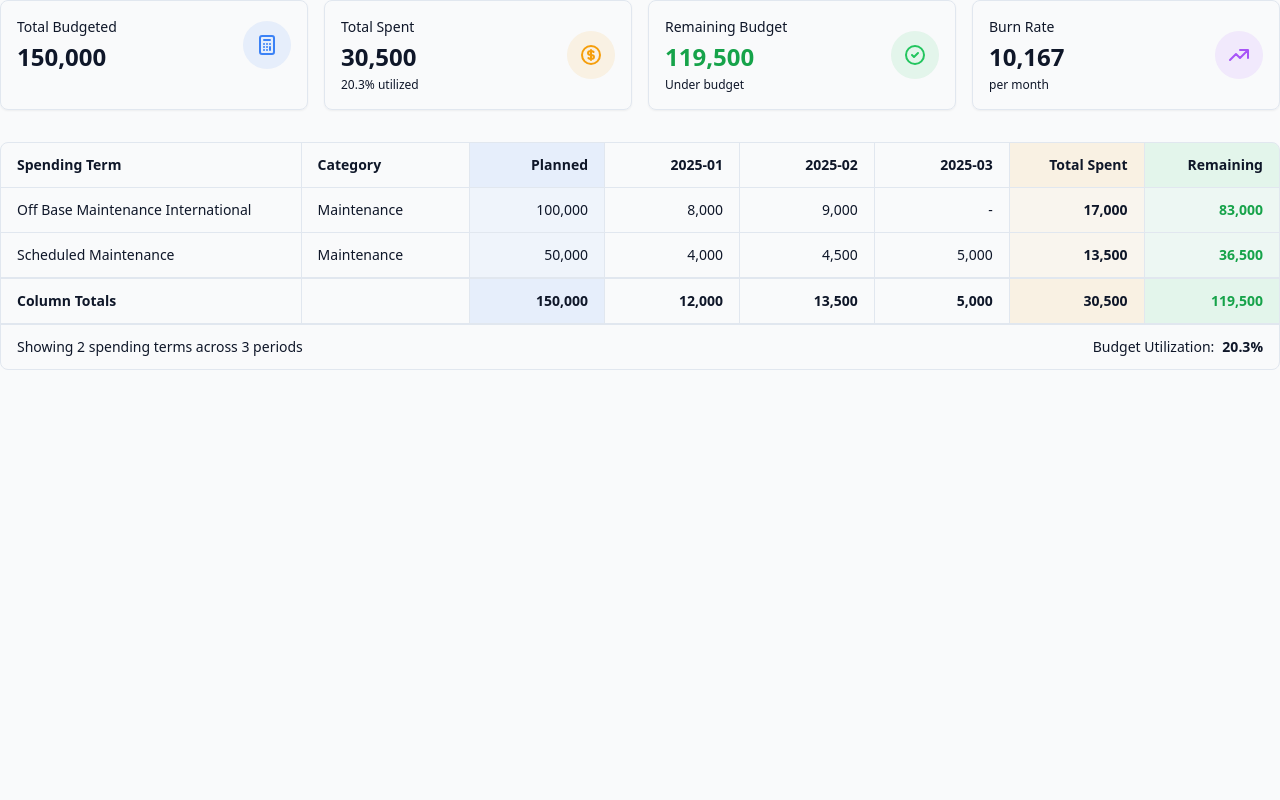
Test: BudgetTable › Optimistic Updates and Error Handling › should show error toast on save failure
Step 1. Click the text "100,000" → (562, 210), box top-left (536, 200), bottom-right (588, 220)
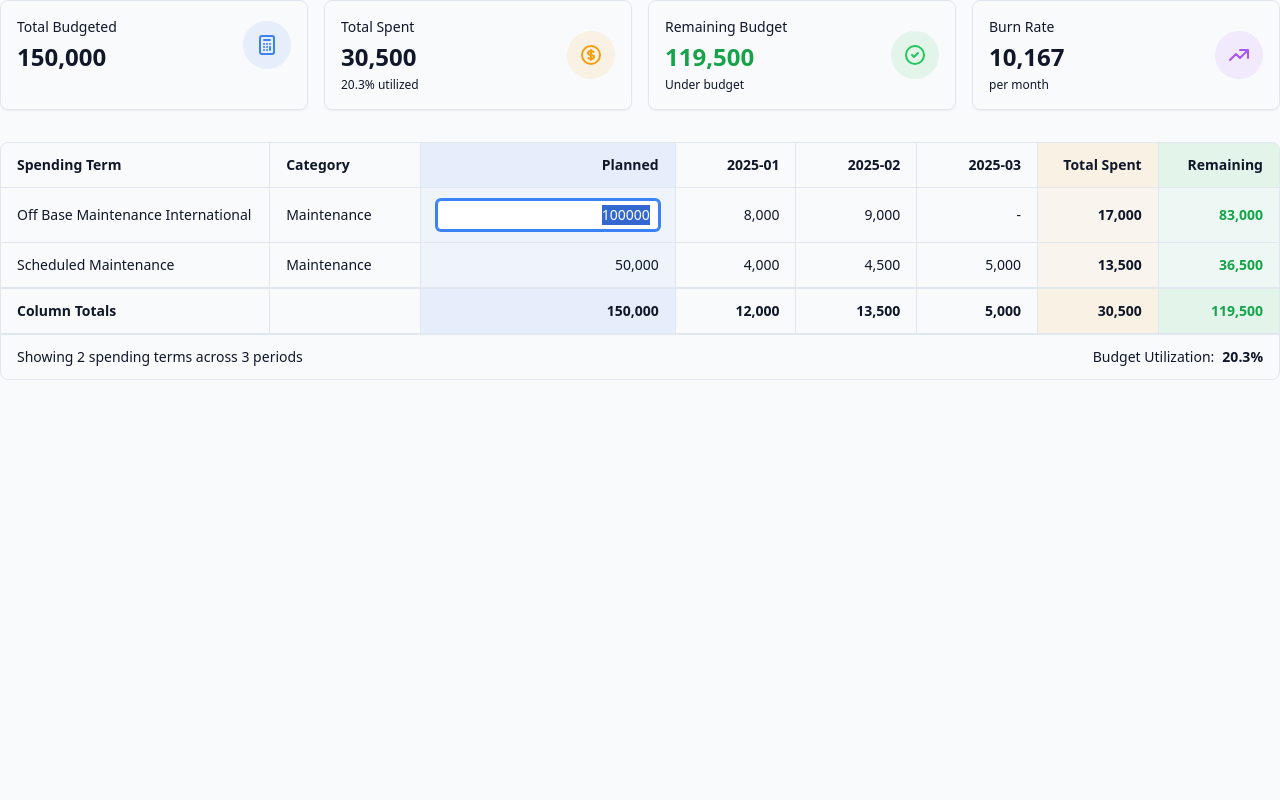
Step 2. Replace the text in the field with "120000" → (548, 215), box top-left (437, 200), bottom-right (659, 230)
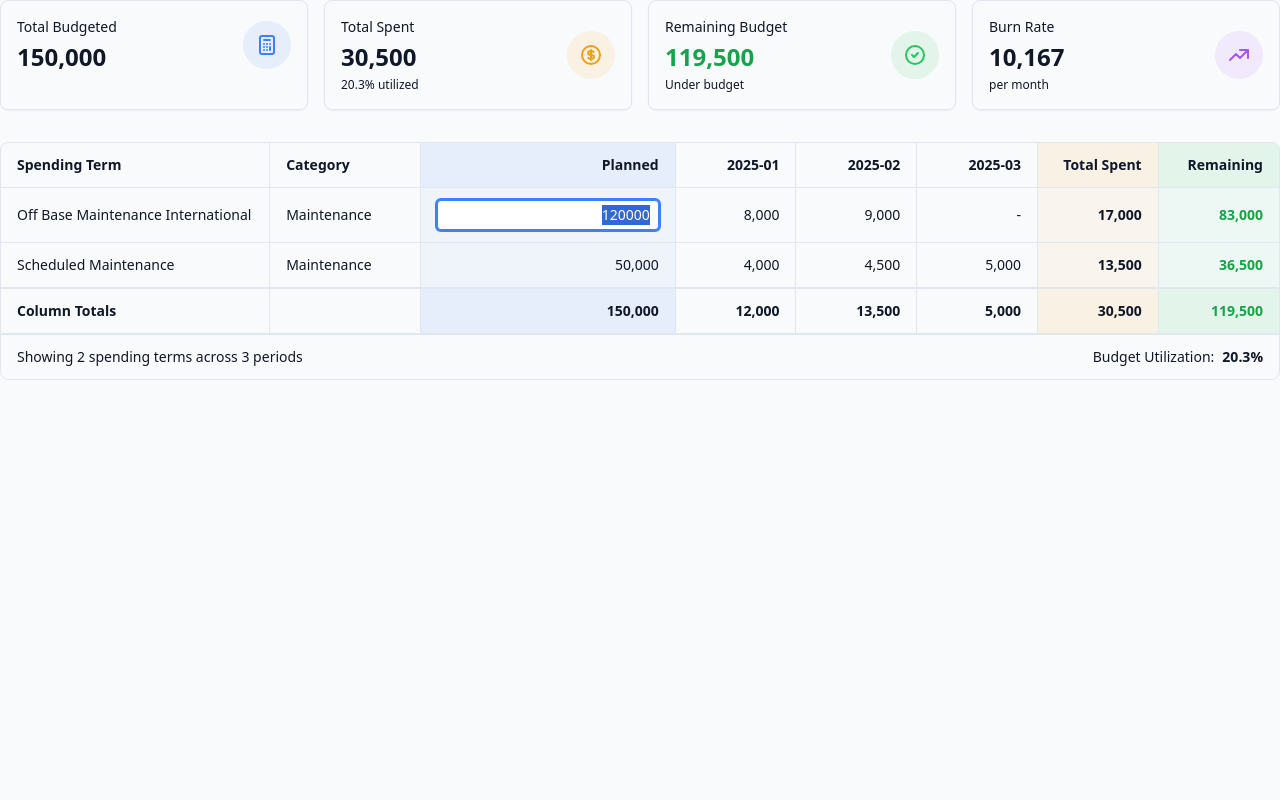
Step 3. Press Enter in the field, box top-left (437, 200), bottom-right (659, 230)
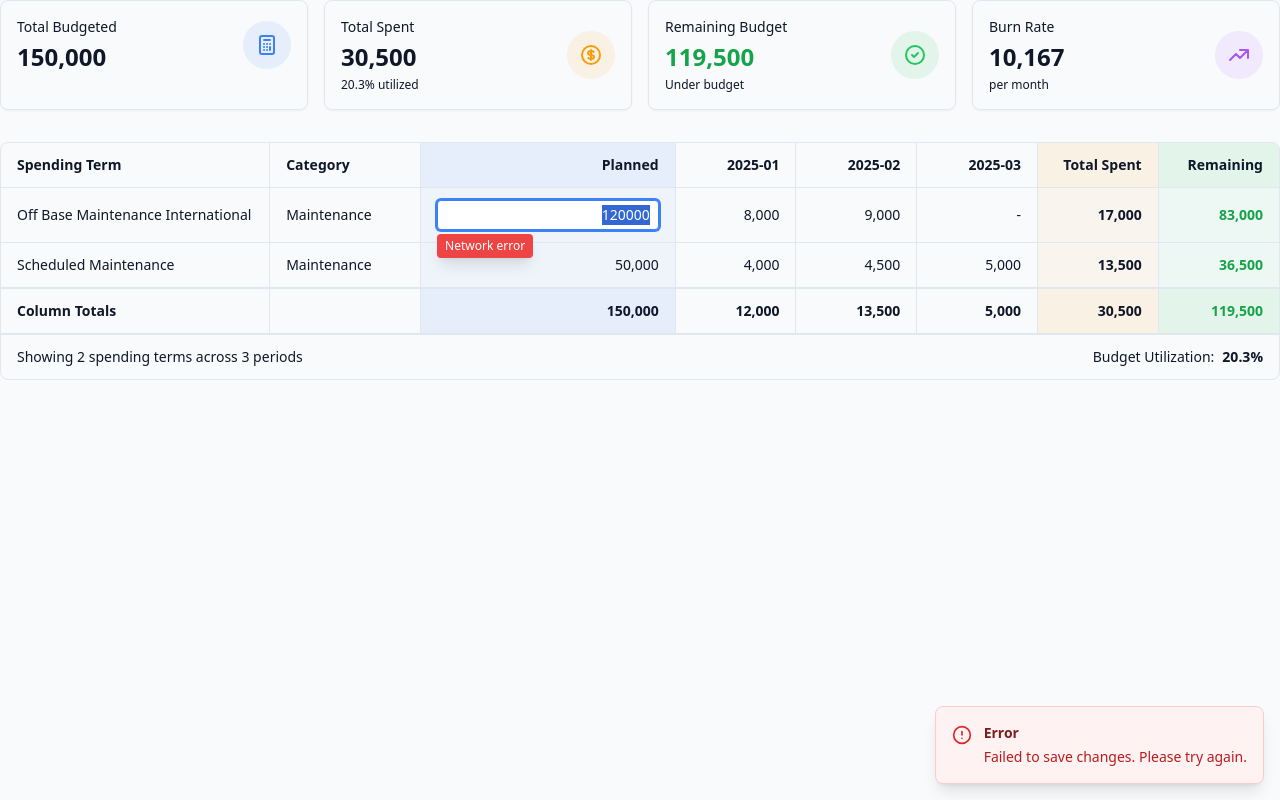
Expected: the text "Error" is shown, top-left (984, 723), bottom-right (1019, 742)
Expected: the text "Failed to save changes. Please try again." is shown, top-left (984, 747), bottom-right (1247, 767)
